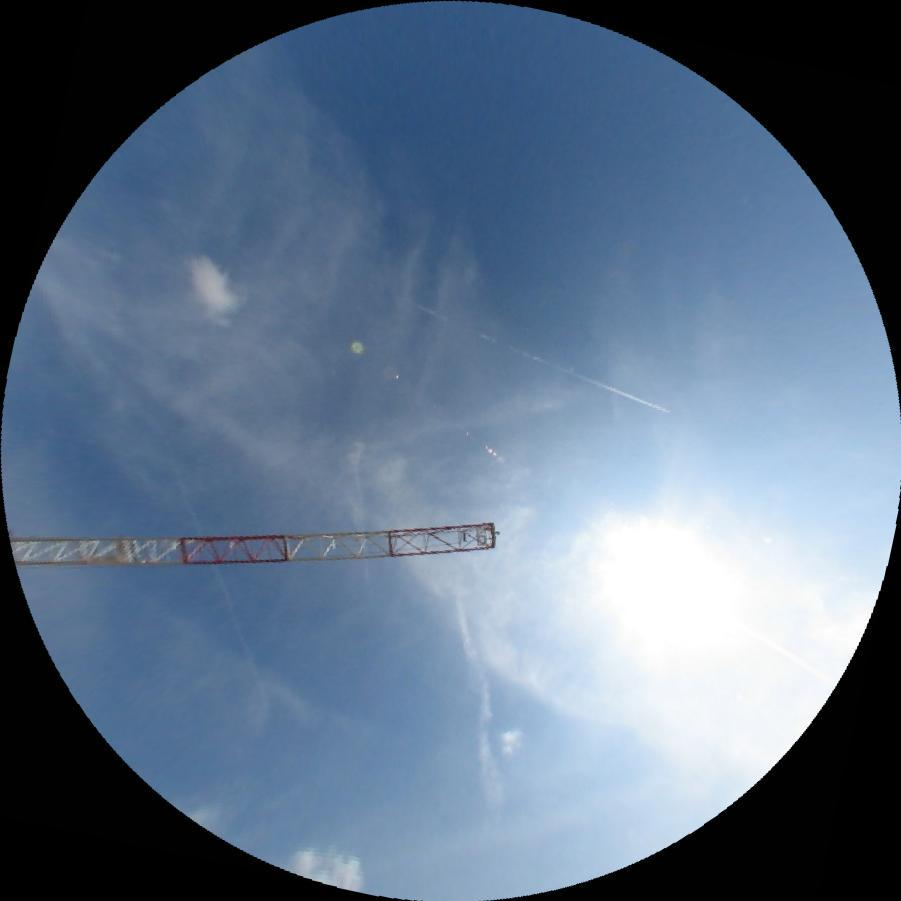contrail old: (179, 488, 269, 700)
contrail young: (413, 302, 670, 417)
sun: (578, 505, 744, 658)
unknow: (387, 371, 582, 462), (439, 571, 509, 811)
